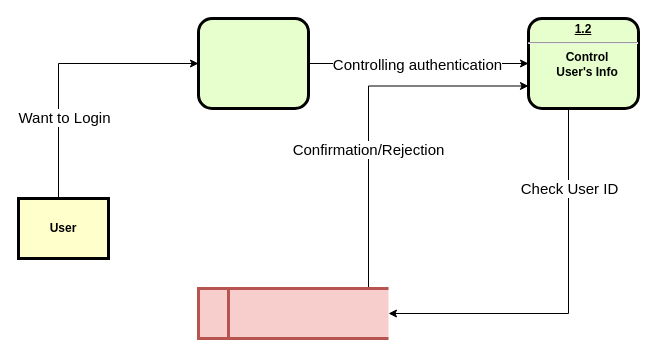
The diagram is 657 pixels wide and 357 high, and some of its shapes have lost their labels. Each missing label, with the box of its shape:
1.1 Request Login: (196, 16, 310, 110)
U ser table: (196, 286, 390, 340)
